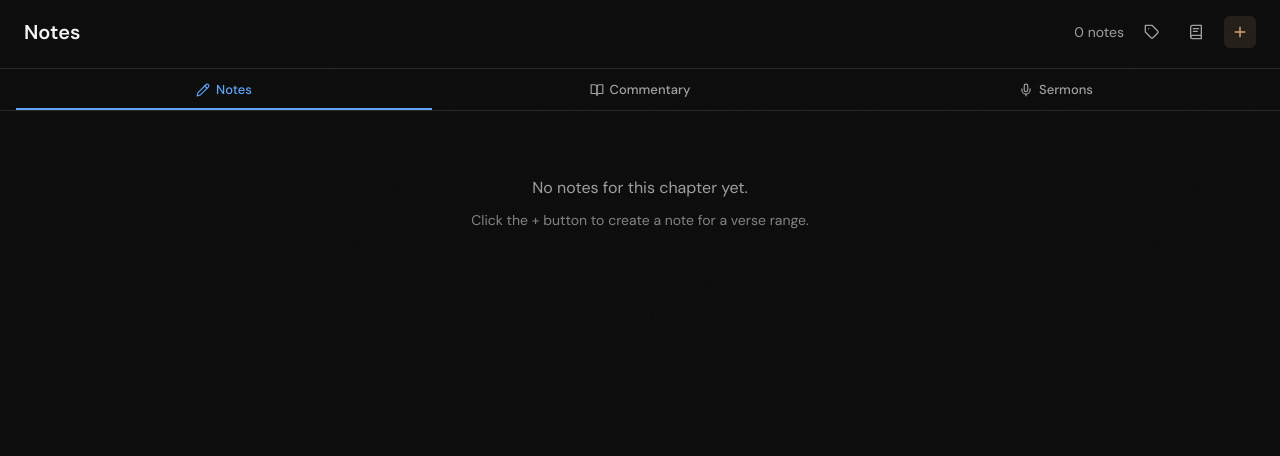
Test: NotesPanel › pluralization › shows correct plural for sermons
Click the button "Sermons".
click(1056, 90)  # box [848,69,1264,110]
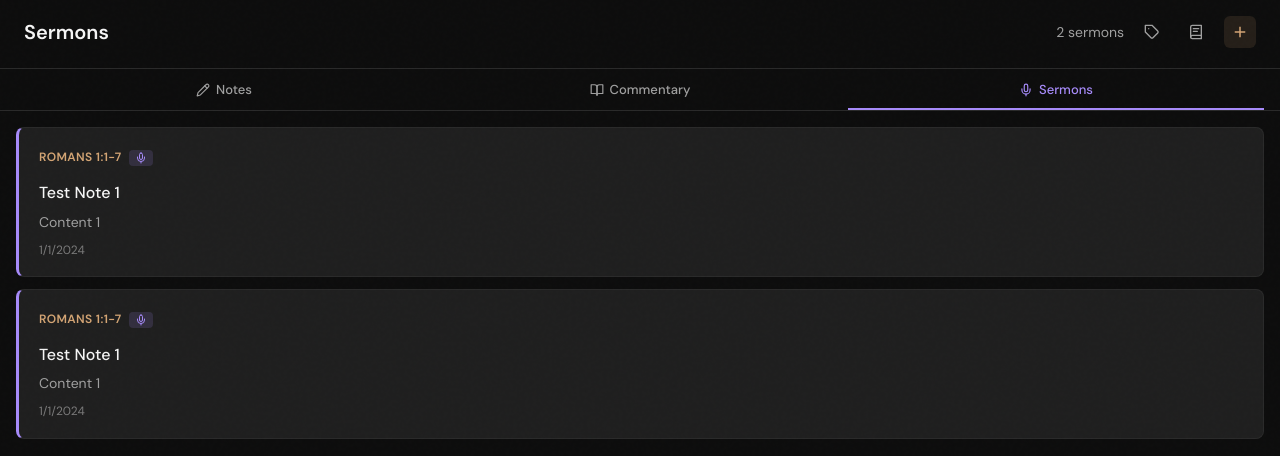
Result: the text "2 sermons" is shown at [1056,21,1124,43]
